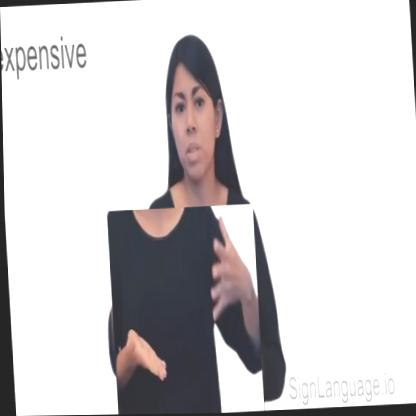Expensive: (106, 204, 262, 415)
